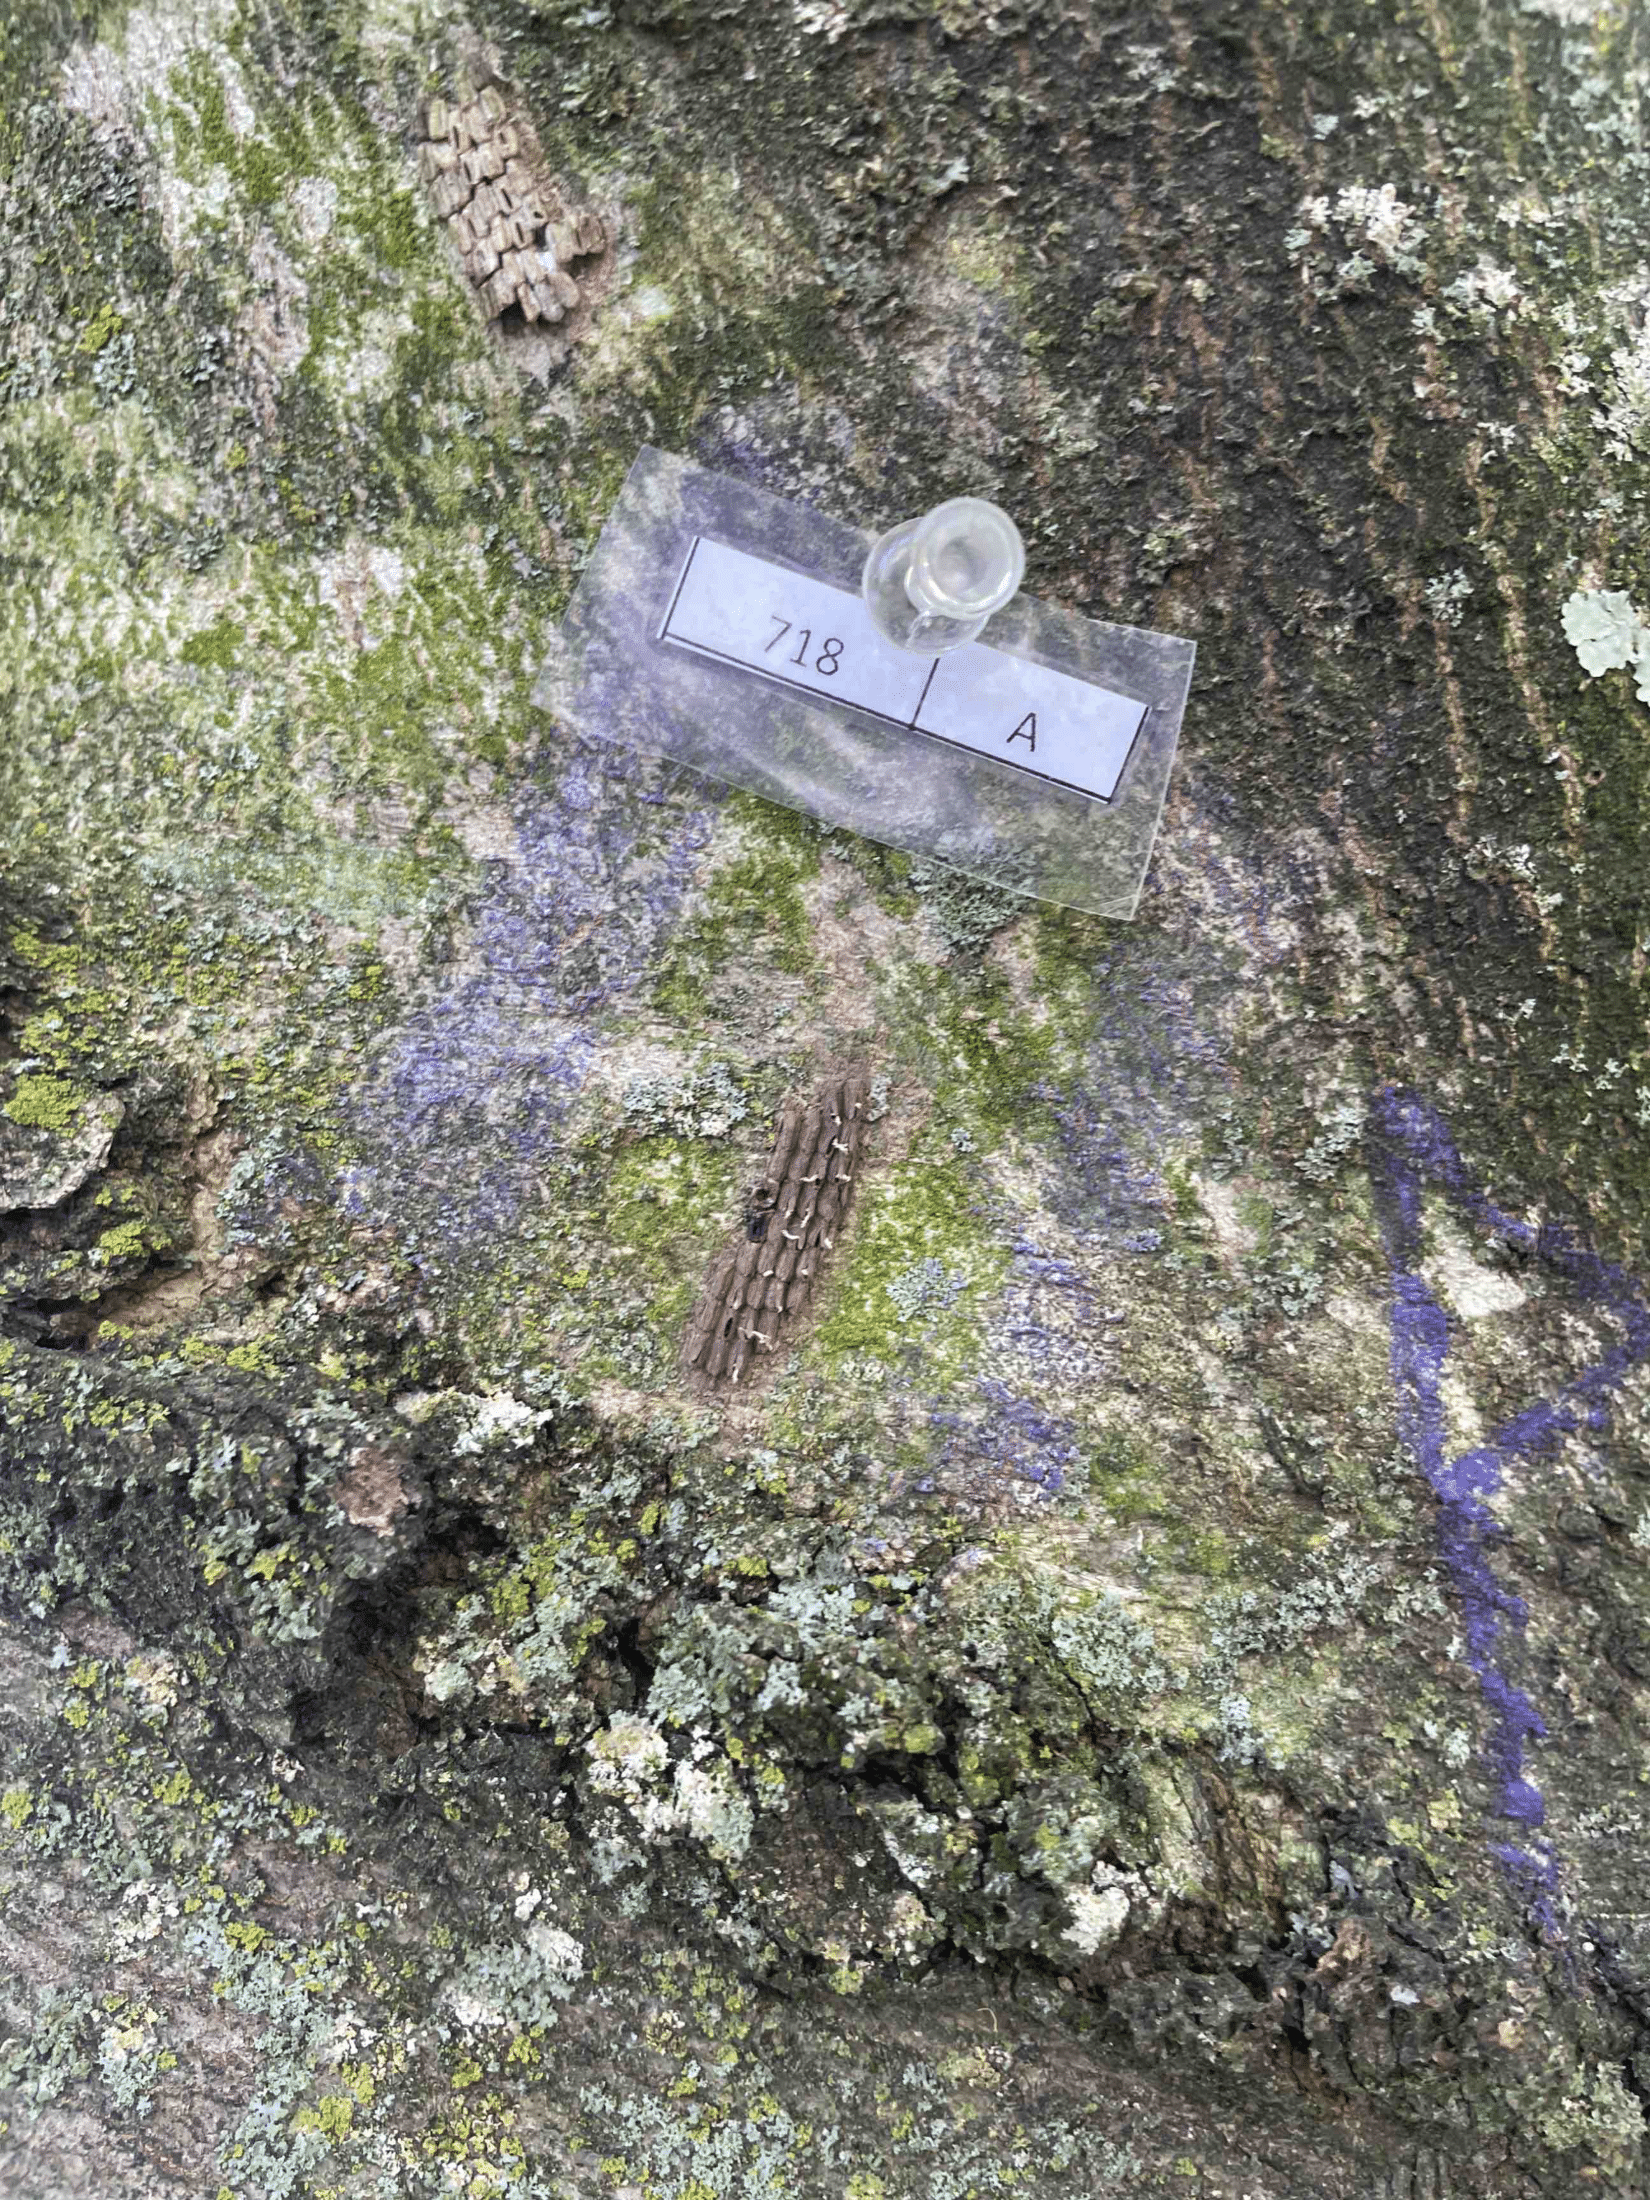egg masses: (664, 1046, 891, 1379)
